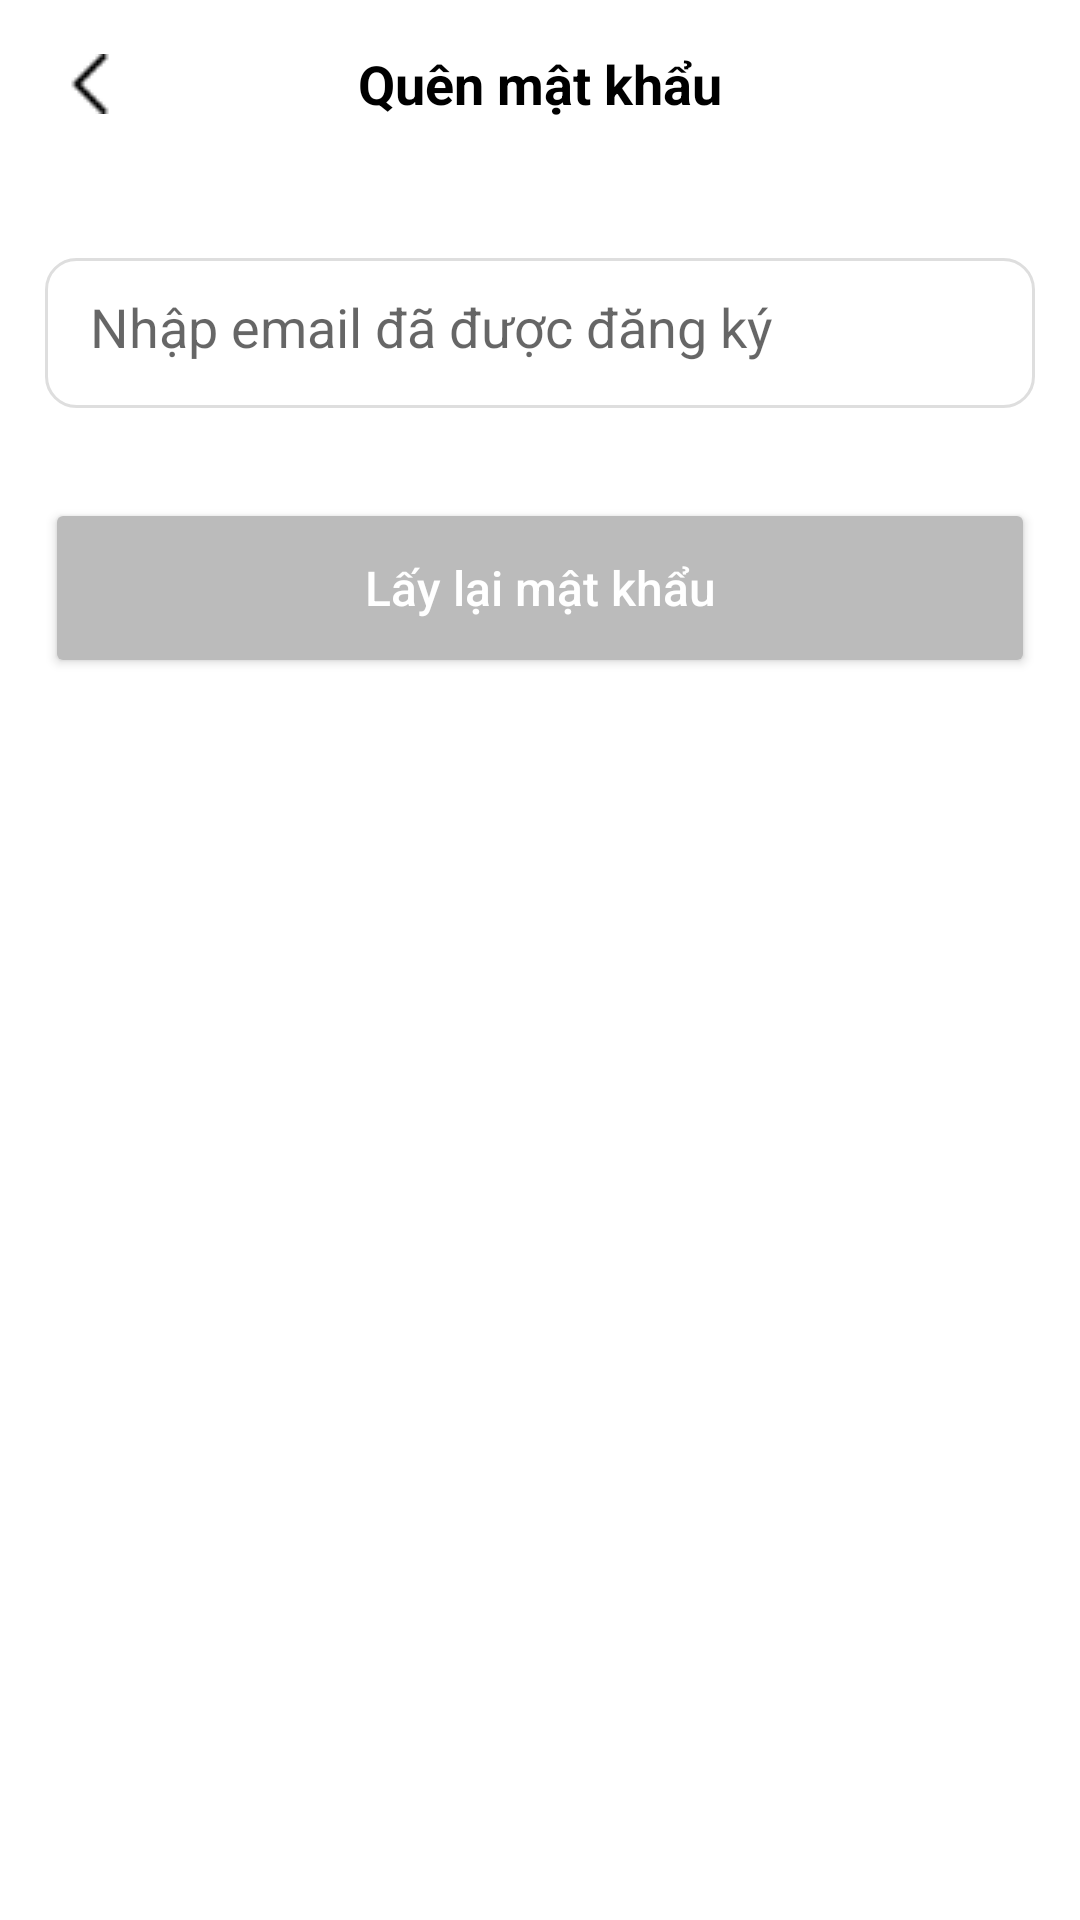

Icon bounding boxes for this 1080*1920 phone screenshot, format rect(x1, y1, x2, y2):
back: rect(71, 54, 109, 114)
